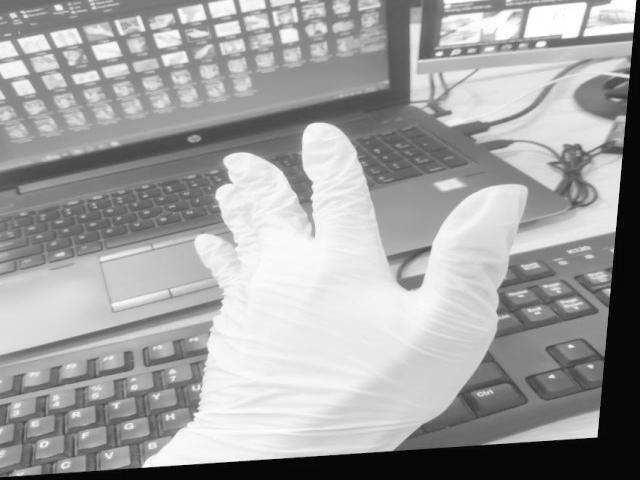gloved: (185, 127, 524, 468)
